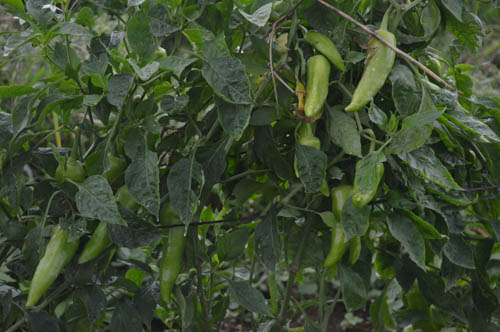ChiliPepper: (21, 210, 81, 318), (344, 18, 401, 125), (83, 182, 150, 271), (151, 198, 186, 305), (324, 181, 360, 279), (349, 150, 387, 218), (300, 26, 353, 74), (294, 133, 332, 199), (300, 52, 333, 126), (53, 156, 86, 190)
